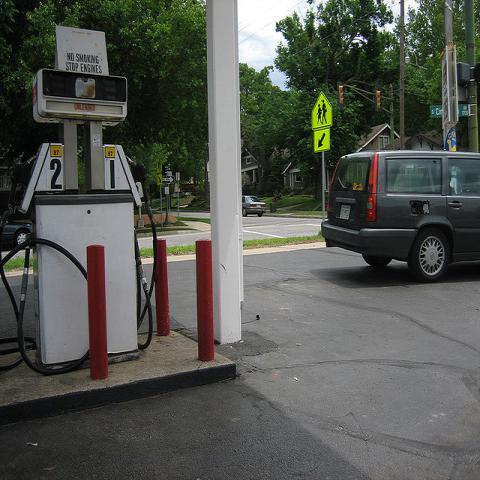car: (321, 150, 479, 282), (1, 212, 33, 246), (243, 196, 265, 216)
